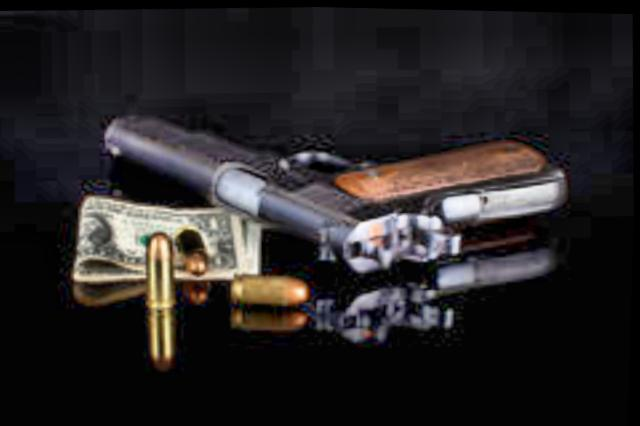pistol: (94, 94, 575, 279)
